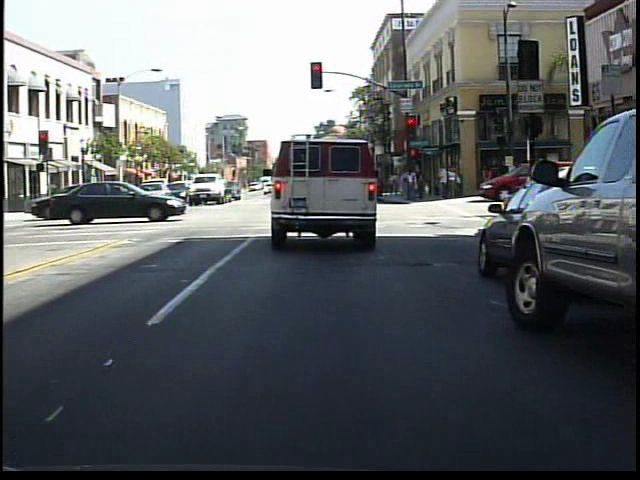person: (477, 160, 498, 197)
